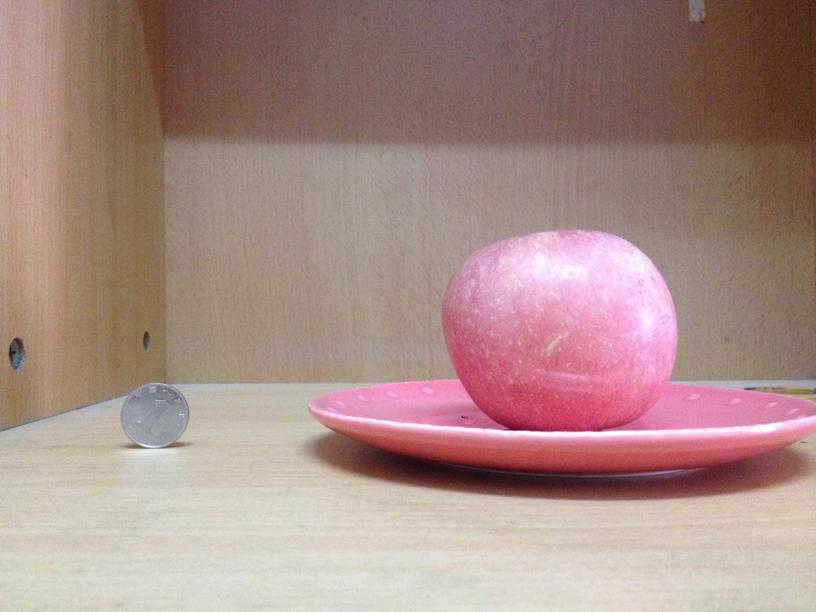apple: (437, 226, 675, 428)
coin: (120, 380, 190, 449)
